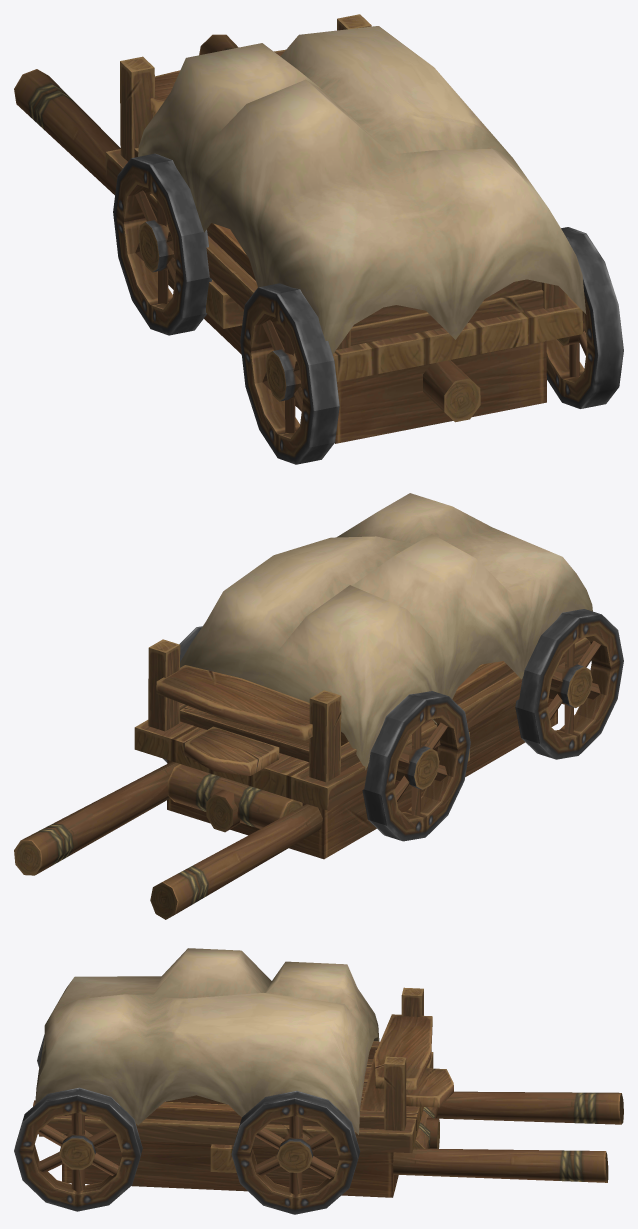
The model's file is cartBody.fbx.
3 views of the same model, one above another, from view 1: azimuth 30°, elevation 25°; view 2: azimuth 150°, elevation 25°; view 3: azimuth 270°, elevation 25° (orthographic). The views are drawn at different scales.
Parts seen in each view (by area): view 1: polySurface1206, wheel002, wheel001; view 2: polySurface1206, wheel001, wheel002; view 3: polySurface1206, wheel002, wheel001.
Boxes of the visible parts, x1,y1,x2,y2 form: polySurface1206: (14,14,586,443); wheel002: (240,227,623,464); wheel001: (113,153,212,335); polySurface1206: (14,493,592,919); wheel001: (163,626,470,841); wheel002: (515,609,623,759); polySurface1206: (33,948,623,1197); wheel002: (14,1034,142,1211); wheel001: (231,1090,360,1214).
Bounding box in the file's own units: 5.19 × 4.11 × 11.6.
